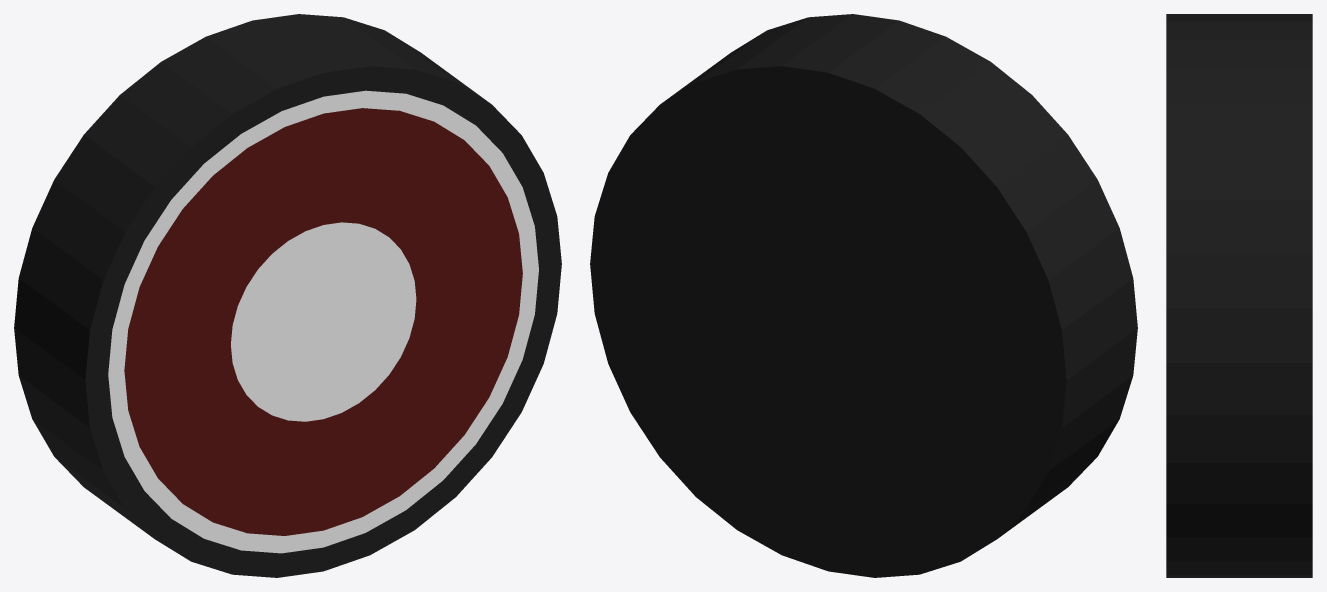
File: Sign.fbx
The picture shows the model from 3 angles, left to right: view 1: azimuth 30°, elevation 25°; view 2: azimuth 150°, elevation 25°; view 3: azimuth 270°, elevation 25°; orthographic projection. The views are drawn at different scales.
Visible parts, largest first — view 1: Cylinder.003; view 2: Cylinder.003; view 3: Cylinder.003.
Part boxes in pixels (box(x1,y1,x2,y2)): Cylinder.003: box(14, 14, 561, 577); Cylinder.003: box(590, 14, 1137, 577); Cylinder.003: box(1166, 14, 1312, 577).
Size of the model in its own units: 429 by 429 by 111.
